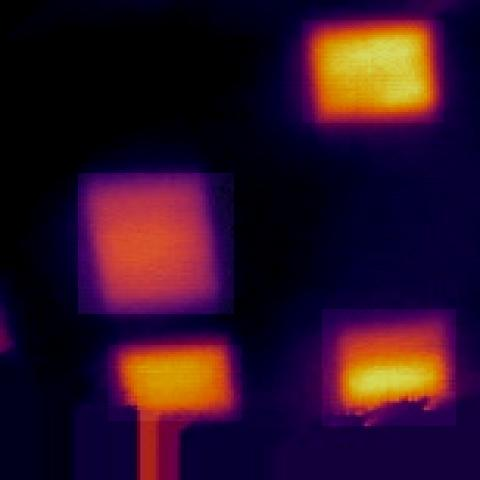fault: (78, 173, 234, 314), (322, 309, 456, 426), (302, 20, 444, 123), (108, 345, 242, 421)
